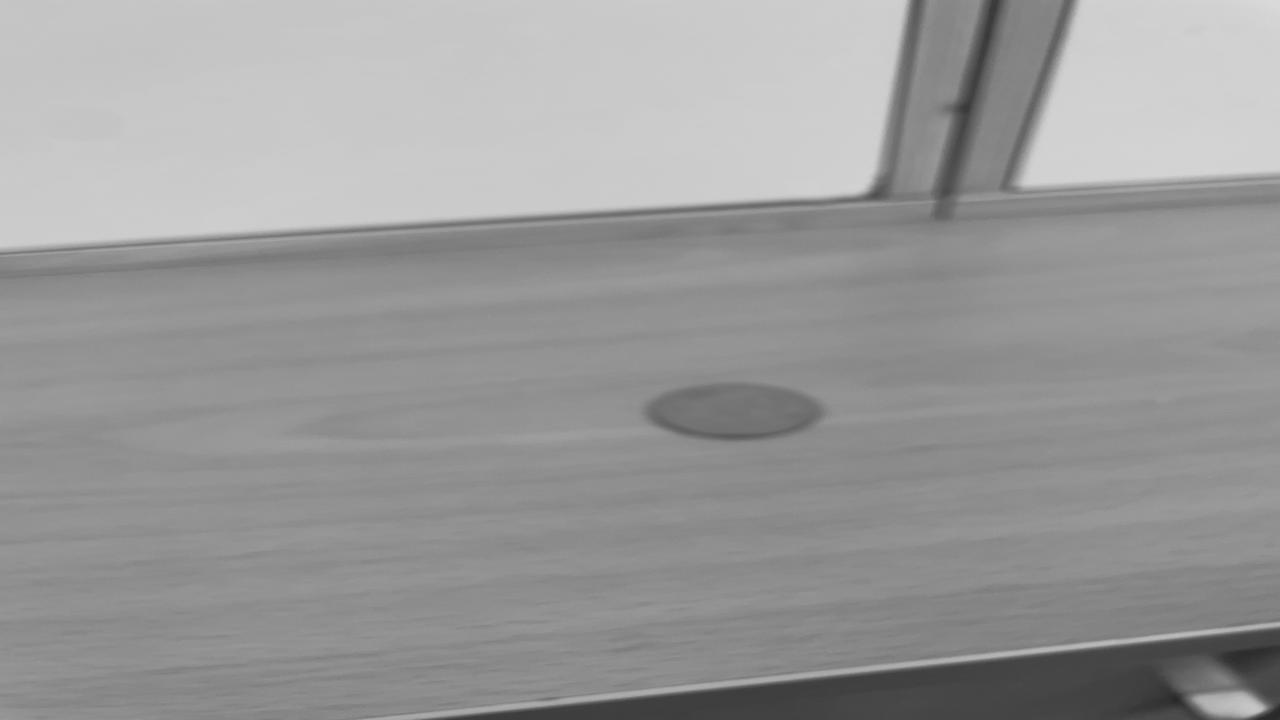coin: (640, 380, 830, 441)
